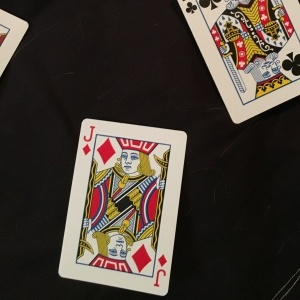card: (56, 118, 188, 293)
